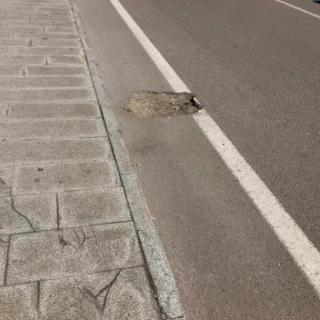pothole: (123, 91, 202, 120)
